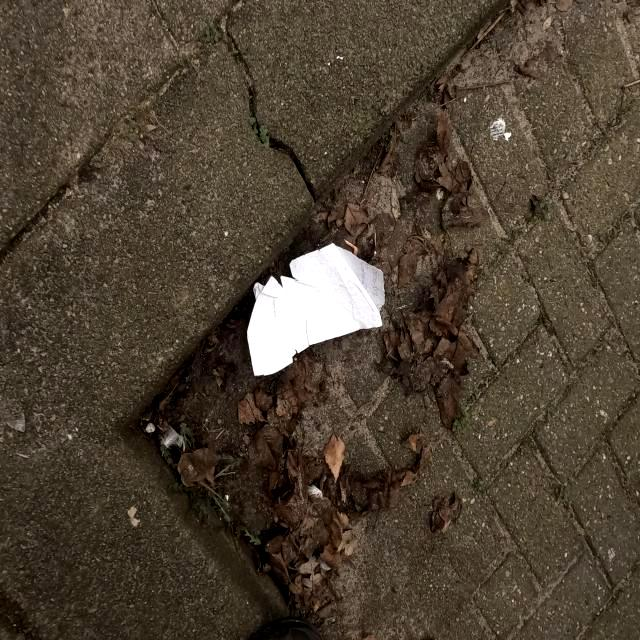Paper: (242, 240, 386, 368)
